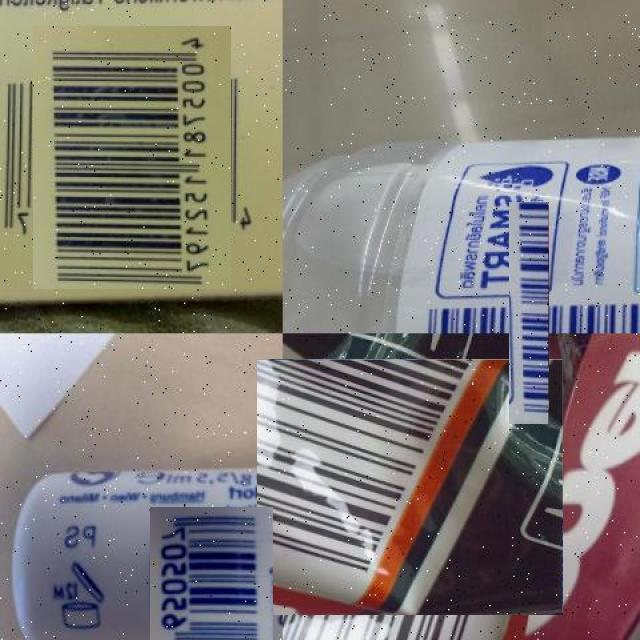Barcode: (270, 346, 551, 627), (16, 42, 248, 274), (463, 248, 594, 379), (146, 512, 279, 640)
